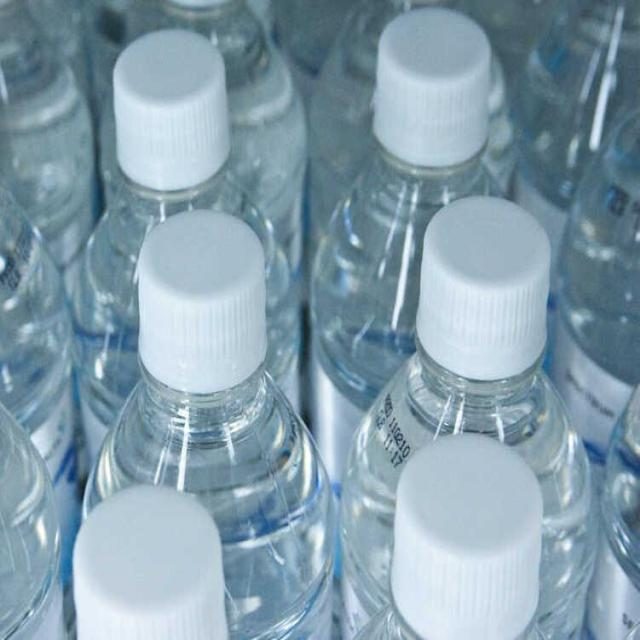plastic bottle cap: (388, 432, 544, 640), (414, 193, 550, 384), (135, 208, 269, 396), (71, 482, 230, 640), (110, 27, 231, 193), (370, 7, 490, 168)
